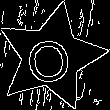O_N: (27, 29, 76, 84)
